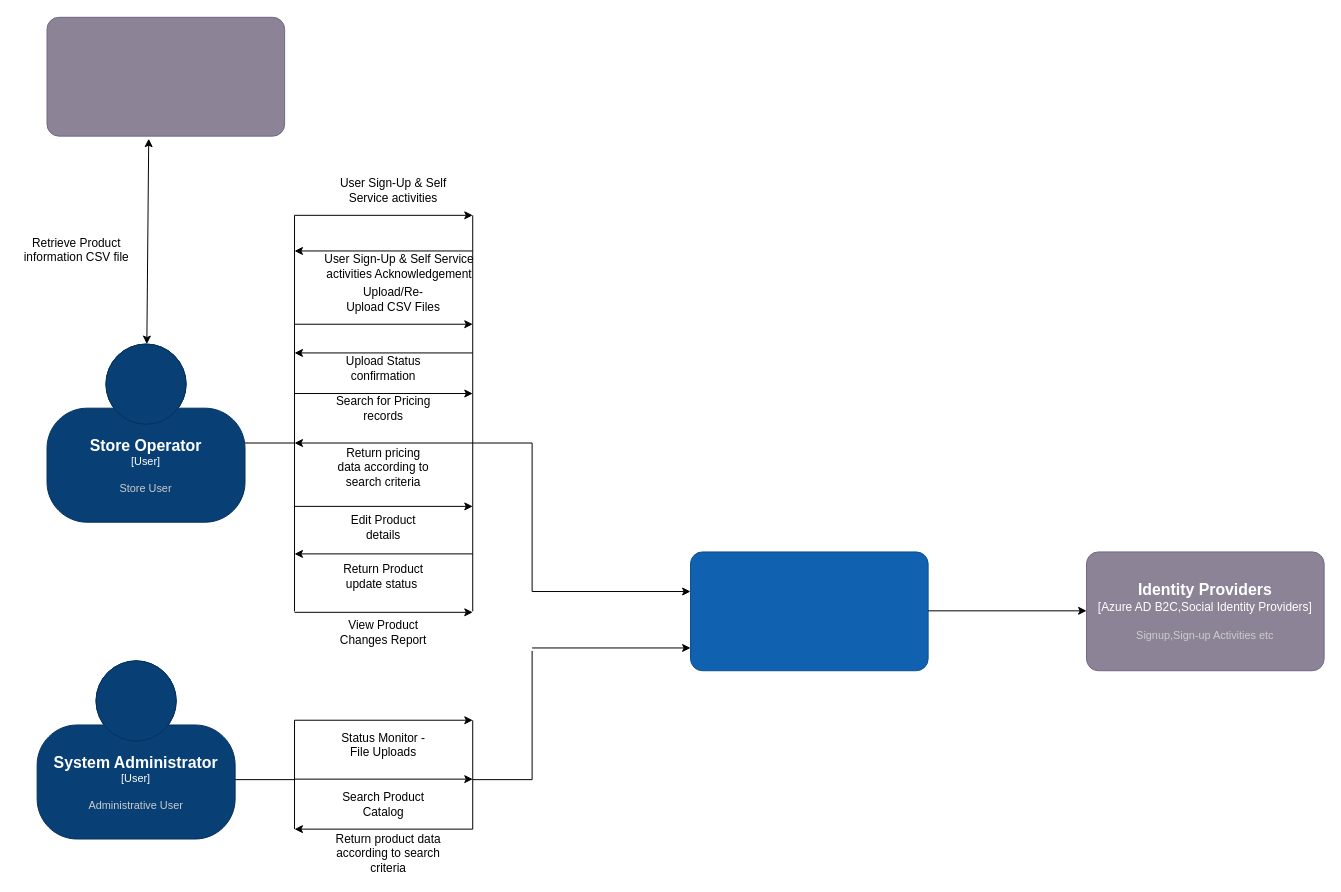
Some shapes in this 1341 by 892 pixel diagram are drawn without their labels. The box of each missing label's shape, as (x1, y1, x2, y2) in pixels:
iRetail [Software System] Retail Web Application: (690, 551, 928, 671)
Retail POS [Software System] Source of Truth for Product Catalog: (46, 16, 285, 136)
